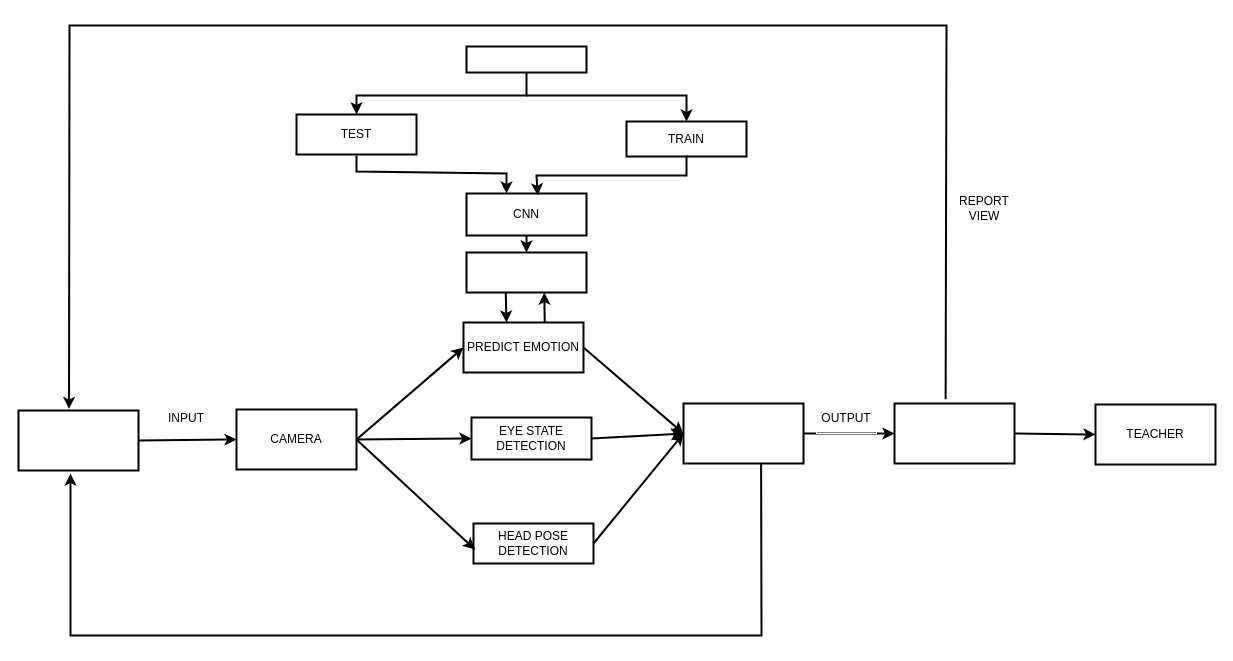
The diagram is 1233 pixels wide and 661 high, and some of its shapes have lost their labels. Here are the shapes that lost their labels. From the top down, the box of each, then its label:
(465, 45, 587, 73): DATASET
(465, 251, 587, 293): VGG-16 MODEL
(17, 409, 139, 471): STUDENT
(682, 402, 804, 464): ANALYSIS
(893, 402, 1015, 464): REPORT
